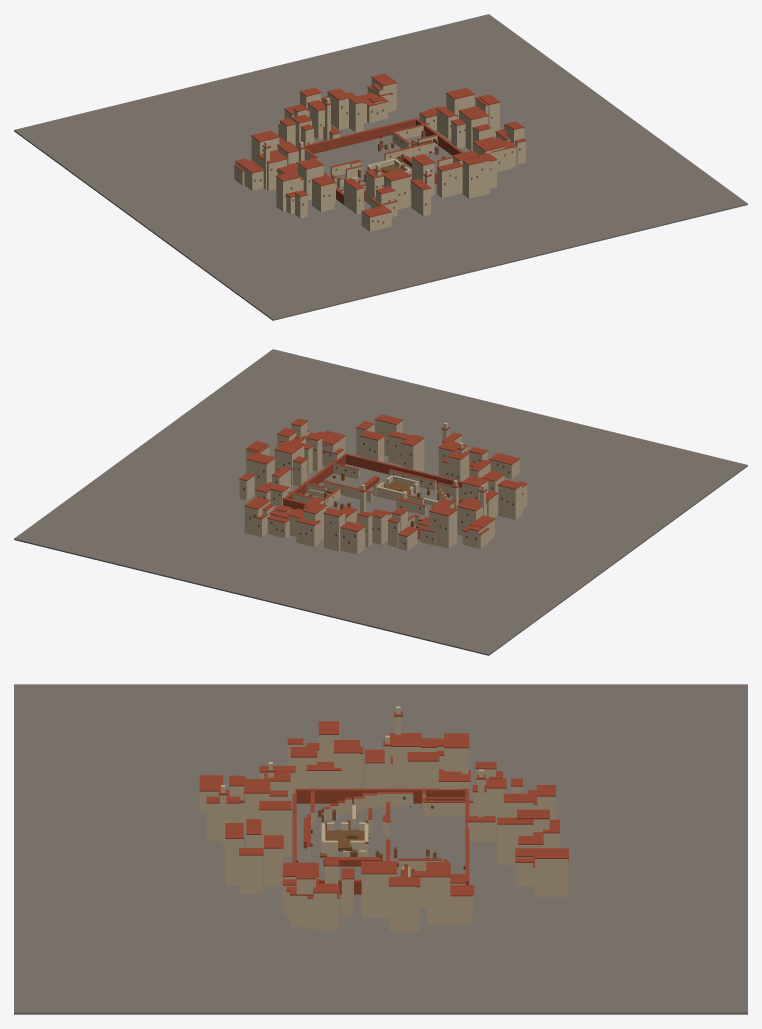
The model's file is de_aq_inferno.glb.
3 renders of one model, top to bottom at view 1: azimuth 30°, elevation 25°; view 2: azimuth 150°, elevation 25°; view 3: azimuth 270°, elevation 25°, orthographic. The views are drawn at different scales.
Parts seen in each view (by area): view 1: skyline, de_aq_inferno; view 2: skyline, de_aq_inferno; view 3: skyline, de_aq_inferno.
Part boxes in pixels (x1,y1,x2,y2): skyline: (14,14,747,320); de_aq_inferno: (298,118,463,204); skyline: (14,349,747,655); de_aq_inferno: (283,453,461,539); skyline: (14,684,747,1014); de_aq_inferno: (292,788,473,894).
Bounding box in the file's own units: 13840 × 1370 × 13072.
